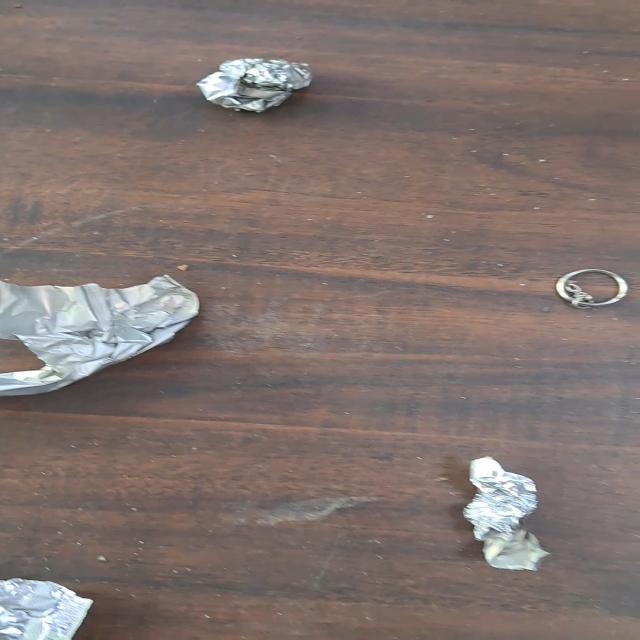Anorganik: (0, 272, 201, 394), (472, 462, 549, 566), (196, 55, 317, 114), (0, 575, 94, 640), (554, 264, 630, 308)
